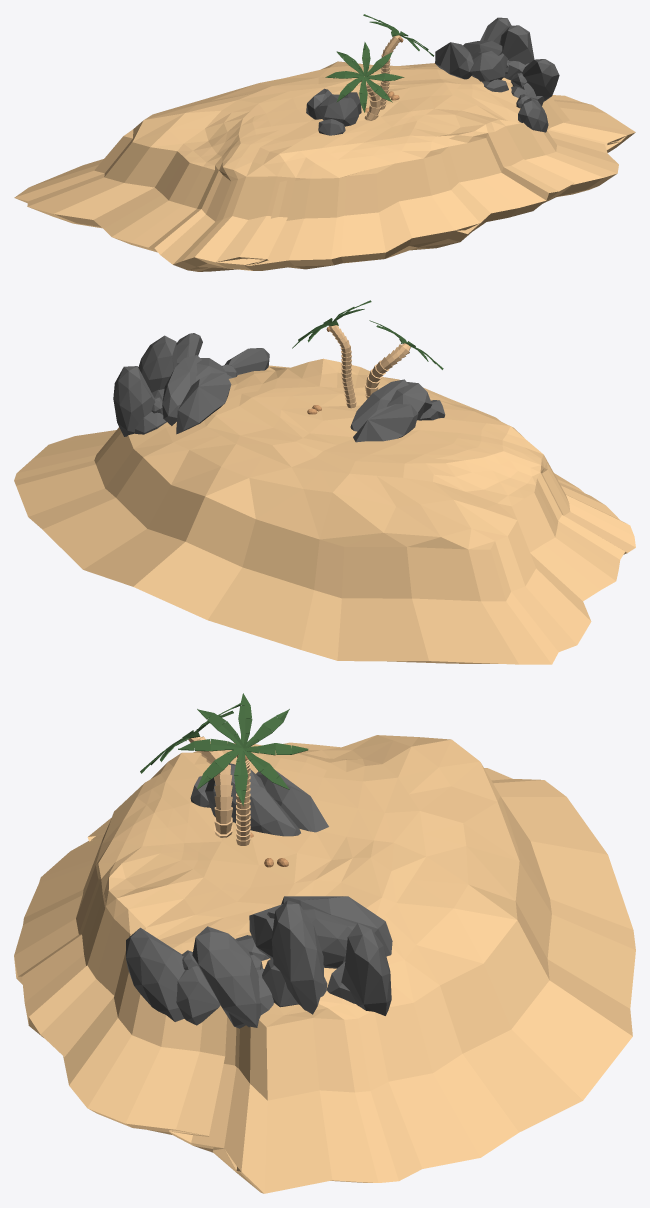
Rendered from Isla3.fbx.
3 views of the same model, one above another, from view 1: azimuth 30°, elevation 25°; view 2: azimuth 150°, elevation 25°; view 3: azimuth 270°, elevation 25° (orthographic). The views are drawn at different scales.
Visible parts, largest first — view 1: Palmera con Coco.004; view 2: Palmera con Coco.004; view 3: Palmera con Coco.004.
Part boxes in pixels (bbox=[...]): Palmera con Coco.004: bbox=[14, 14, 635, 271]; Palmera con Coco.004: bbox=[14, 300, 635, 664]; Palmera con Coco.004: bbox=[14, 693, 635, 1193].
Size of the model in its own units: 2044 by 747 by 1288.
